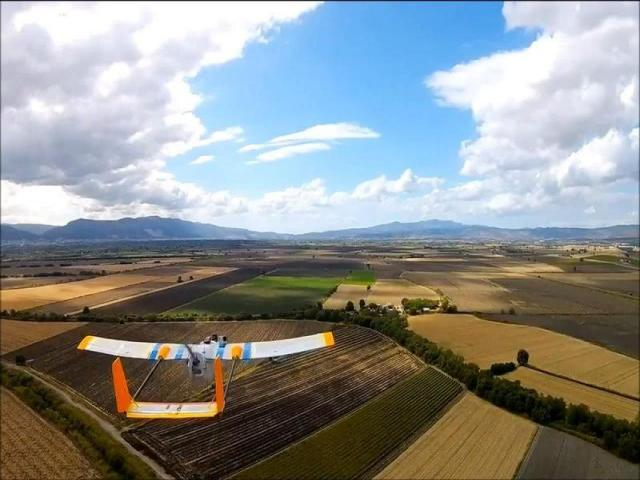hedef: (76, 328, 338, 422)
